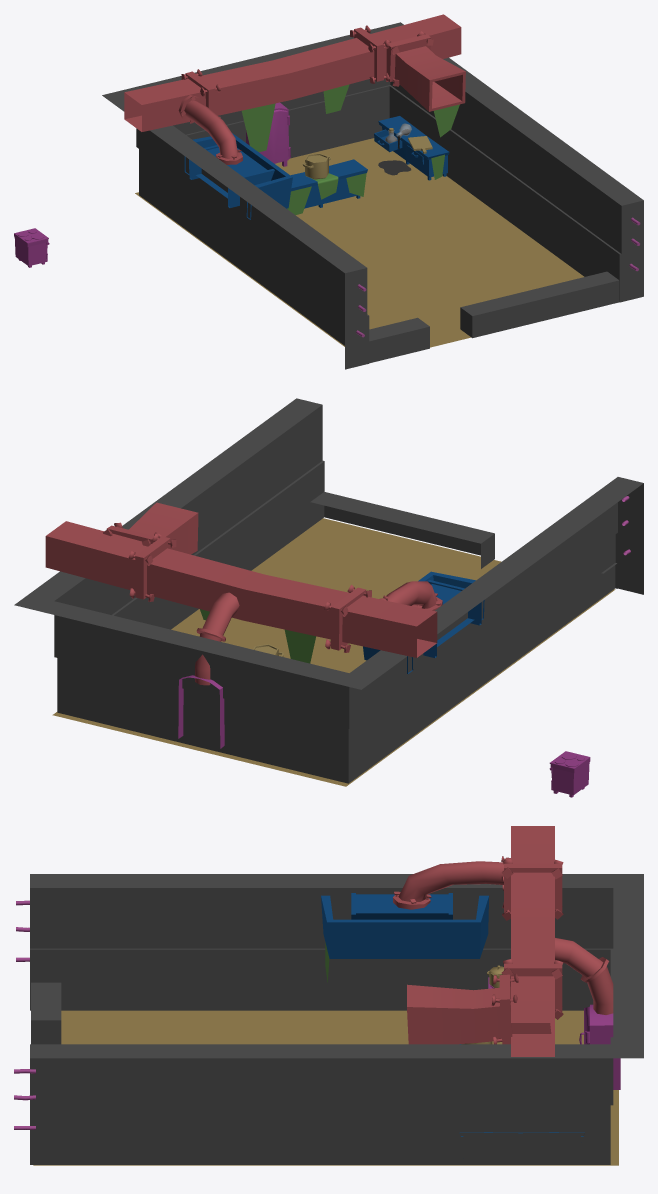
The model's file is KitchenBossRoom.fbx.
The picture shows the model from 3 angles, top to bottom: view 1: azimuth 30°, elevation 25°; view 2: azimuth 150°, elevation 25°; view 3: azimuth 270°, elevation 25°; orthographic projection. The views are drawn at different scales.
Visible parts, largest first — view 1: BackWall, Floor2, VentilationShaft, ShortWalls, GoopDrips, Extractor, CounterWithDrawers, ExtractorPipe, Counter, Fridge, Oven1; view 2: BackWall, VentilationShaft, Floor2, ShortWalls, Extractor, FridgeTube, Oven1, ExtractorPipe, GoopDrips, Fridge; view 3: BackWall, VentilationShaft, Floor2, Extractor, ExtractorPipe, FridgeTube, ShortWalls, Fridge.
Part boxes in pixels (bbox=[...]): BackWall: bbox=[102, 22, 643, 369]; Floor2: bbox=[135, 138, 584, 347]; VentilationShaft: bbox=[124, 14, 465, 131]; ShortWalls: bbox=[369, 271, 619, 363]; GoopDrips: bbox=[241, 84, 459, 215]; Extractor: bbox=[184, 133, 292, 219]; CounterWithDrawers: bbox=[374, 116, 449, 180]; ExtractorPipe: bbox=[178, 95, 242, 164]; Counter: bbox=[290, 159, 367, 208]; Fridge: bbox=[246, 102, 290, 166]; Oven1: bbox=[14, 228, 49, 267]; BackWall: bbox=[14, 398, 643, 783]; VentilationShaft: bbox=[45, 502, 437, 657]; Floor2: bbox=[52, 518, 615, 786]; ShortWalls: bbox=[310, 492, 617, 588]; Extractor: bbox=[363, 571, 484, 673]; FridgeTube: bbox=[195, 592, 239, 685]; Oven1: bbox=[549, 751, 590, 797]; ExtractorPipe: bbox=[379, 581, 442, 610]; GoopDrips: bbox=[200, 609, 316, 663]; Fridge: bbox=[178, 675, 224, 748]; BackWall: bbox=[30, 874, 643, 1164]; VentilationShaft: bbox=[407, 826, 563, 1056]; Floor2: bbox=[33, 1010, 618, 1165]; Extractor: bbox=[321, 893, 489, 958]; ExtractorPipe: bbox=[392, 856, 510, 909]; FridgeTube: bbox=[555, 937, 613, 1014]; ShortWalls: bbox=[31, 982, 61, 1044]; Fridge: bbox=[579, 1004, 620, 1089].
Bounding box in the file's own units: 21.03 × 6.18 × 20.55.
